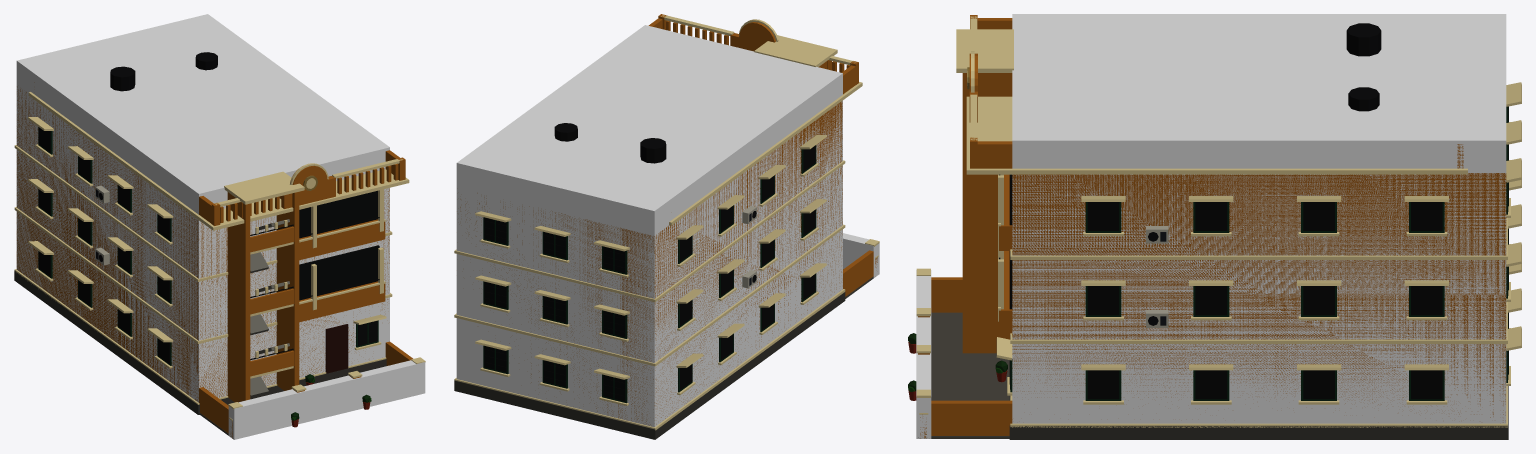
Rendered from CHN_051_walkup_apt.glb.
The picture shows the model from 3 angles, left to right: view 1: azimuth 30°, elevation 25°; view 2: azimuth 150°, elevation 25°; view 3: azimuth 270°, elevation 25°; orthographic projection. The views are drawn at different scales.
Parts seen in each view (by area): view 1: COL_Main, LOD0, COL_Compound; view 2: COL_Main, LOD0, COL_Compound; view 3: COL_Main, LOD0, COL_Compound.
Boxes of the visible parts, x1=… form: COL_Main: x1=16, y1=14, x2=389, y2=402; LOD0: x1=14, y1=52, x2=425, y2=439; COL_Compound: x1=228, y1=360, x2=425, y2=439; COL_Main: x1=456, y1=25, x2=842, y2=427; LOD0: x1=454, y1=14, x2=879, y2=439; COL_Compound: x1=843, y1=233, x2=879, y2=277; COL_Main: x1=1012, y1=14, x2=1506, y2=423; LOD0: x1=908, y1=15, x2=1521, y2=439; COL_Compound: x1=916, y1=270, x2=931, y2=438.
Size of what is drawn, in the model's own units: 11.05 by 11.86 by 20.5.
